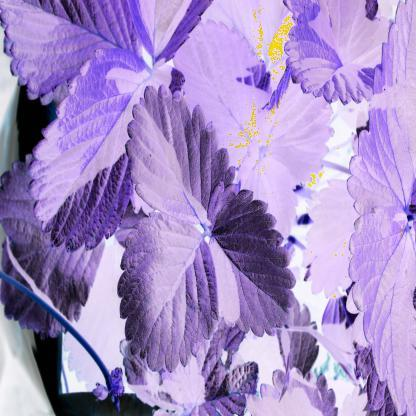Strawberry leaf: (124, 80, 236, 240), (34, 82, 144, 243), (124, 209, 224, 376), (198, 194, 300, 342), (1, 0, 165, 72)
